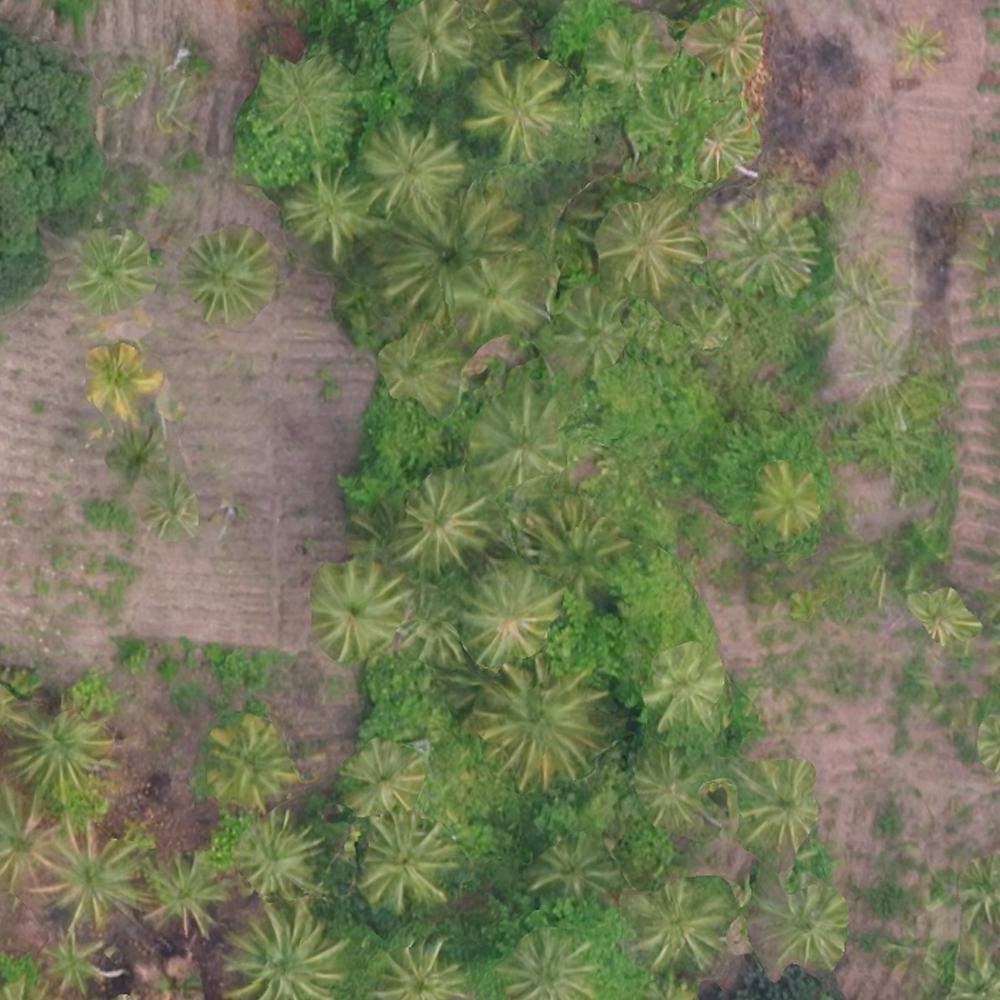Palm: (478, 661, 602, 790), (385, 196, 521, 313), (216, 904, 346, 1000), (470, 57, 574, 160), (47, 821, 149, 924), (625, 874, 725, 975), (352, 821, 457, 916), (705, 198, 804, 297), (467, 388, 564, 489), (367, 121, 464, 219), (314, 557, 409, 657), (5, 694, 103, 790), (603, 199, 700, 294), (522, 493, 618, 586), (392, 476, 491, 563), (462, 568, 557, 658), (207, 716, 302, 805), (757, 883, 852, 972), (255, 51, 344, 140), (226, 815, 322, 897), (70, 227, 160, 311), (735, 756, 818, 846), (284, 168, 374, 250), (447, 258, 535, 341), (492, 931, 593, 1000), (625, 752, 714, 830), (190, 232, 269, 319), (144, 851, 224, 936), (338, 736, 426, 813), (545, 290, 627, 371), (381, 331, 460, 415), (642, 646, 721, 730), (584, 24, 670, 101), (386, 4, 471, 79), (368, 940, 465, 1000), (750, 460, 819, 542), (536, 833, 618, 902), (690, 9, 765, 78), (79, 344, 155, 412)
